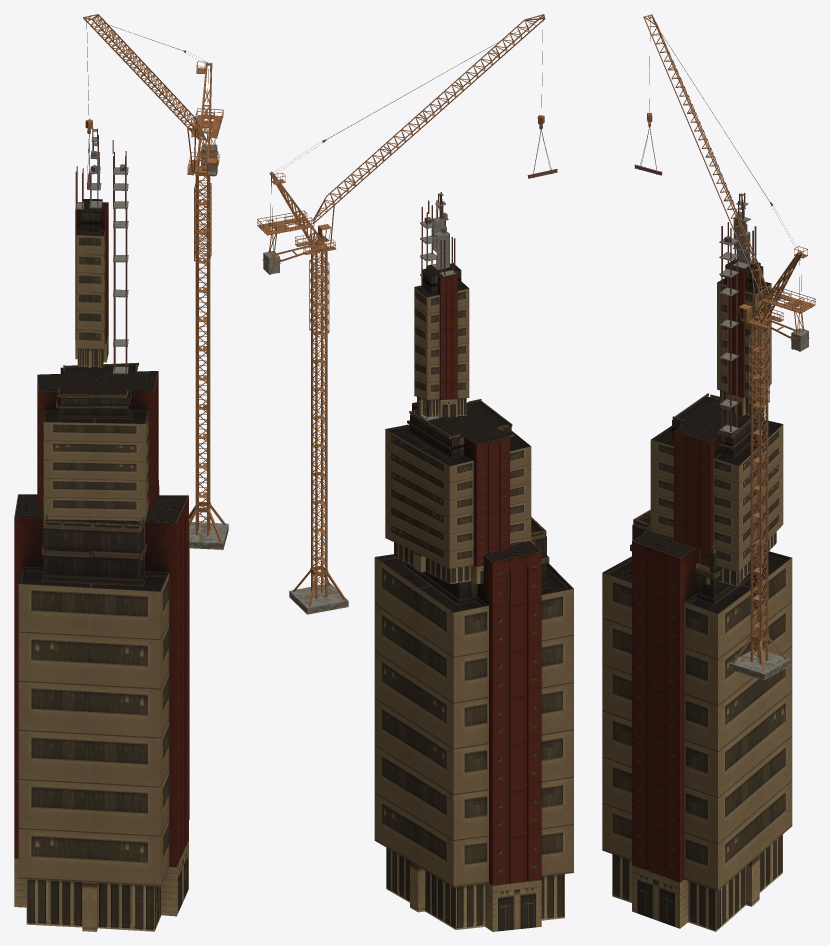
File: vr_duel_v2.FBX
The picture shows the model from 3 angles, left to right: view 1: azimuth 30°, elevation 25°; view 2: azimuth 150°, elevation 25°; view 3: azimuth 270°, elevation 25°; orthographic projection. The views are drawn at different scales.
Visible parts, largest first — view 1: Buildeing1, Krane01, Balki_zdanie1, Pliti_zdanie1, For_Krane; view 2: Buildeing1, Krane01, For_Krane, Pliti_zdanie1, Balki_zdanie1; view 3: Buildeing1, Krane01, Balki_zdanie1, Pliti_zdanie1, For_Krane, Kran_trosi.
Boxes of the visible parts, box(x1,y1,x2,y2) form: Buildeing1: box(14, 199, 189, 931); Krane01: box(83, 14, 226, 542); Balki_zdanie1: box(75, 127, 127, 372); Pliti_zdanie1: box(75, 129, 128, 373); For_Krane: box(189, 144, 228, 549); Buildeing1: box(374, 257, 573, 931); Krane01: box(257, 14, 545, 606); For_Krane: box(263, 234, 348, 614); Pliti_zdanie1: box(420, 193, 456, 420); Balki_zdanie1: box(421, 192, 455, 419); Buildeing1: box(602, 259, 792, 931); Krane01: box(643, 14, 815, 672); Balki_zdanie1: box(721, 193, 756, 431); Pliti_zdanie1: box(719, 193, 756, 433); For_Krane: box(729, 315, 808, 680); Kran_trosi: box(638, 16, 801, 331).
Size of the model in its own units: 152 by 496 by 112.
